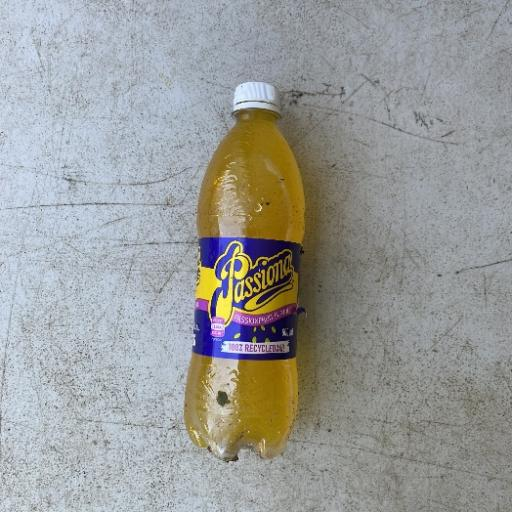Plastic: (181, 80, 308, 462)
